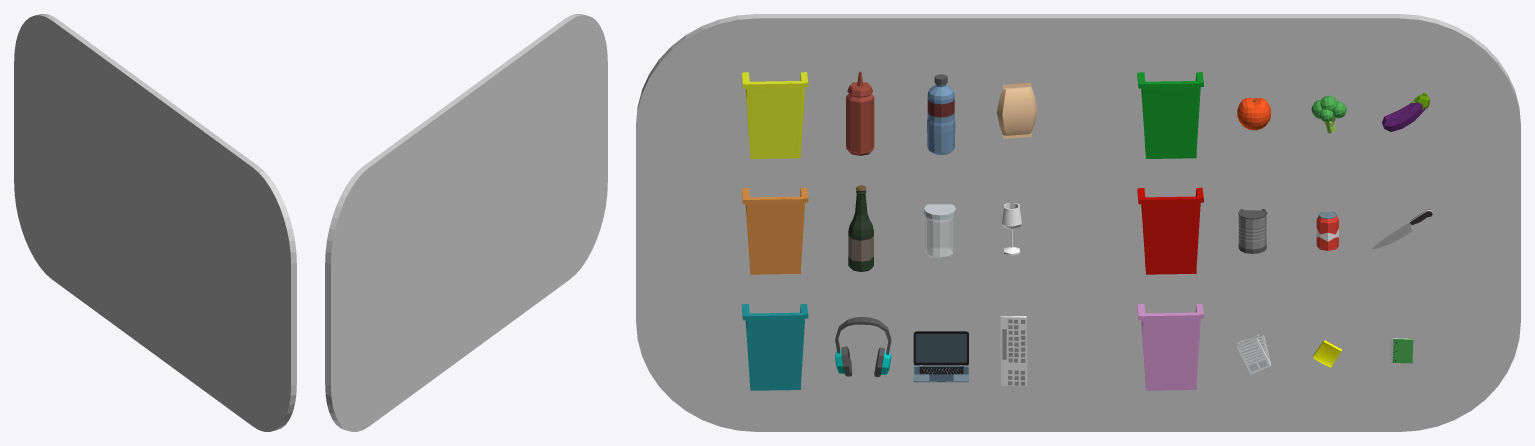
Rendered from plaquette.glb.
The picture shows the model from 3 angles, left to right: view 1: azimuth 30°, elevation 25°; view 2: azimuth 150°, elevation 25°; view 3: azimuth 270°, elevation 25°; orthographic projection. The views are drawn at different scales.
Parts seen in each view (by area): view 1: Cube; view 2: Cube; view 3: Cube, group954169556.002, group954169556.004, group954169556.005, group954169556.001, group954169556.003, group954169556.006, group485226736, KetchupBottle, WaterBottle_3, bagFlat, group1639888595 (+8 smaller).
Boxes of the visible parts, x1,y1,x2,y2 form: Cube: (14,14,296,431); Cube: (325,14,607,431); Cube: (636,14,1520,431); group954169556.002: (741,187,808,274); group954169556.004: (1137,72,1203,158); group954169556.005: (1137,187,1203,274); group954169556.001: (741,303,808,390); group954169556.003: (742,72,808,158); group954169556.006: (1137,303,1203,390); group485226736: (913,331,968,382); KetchupBottle: (846,71,874,155); WaterBottle_3: (927,74,955,154); bagFlat: (996,82,1037,138); group1639888595: (1000,316,1027,386).
Bounding box in the file's own units: 0.1151 × 1.01 × 1.97.
